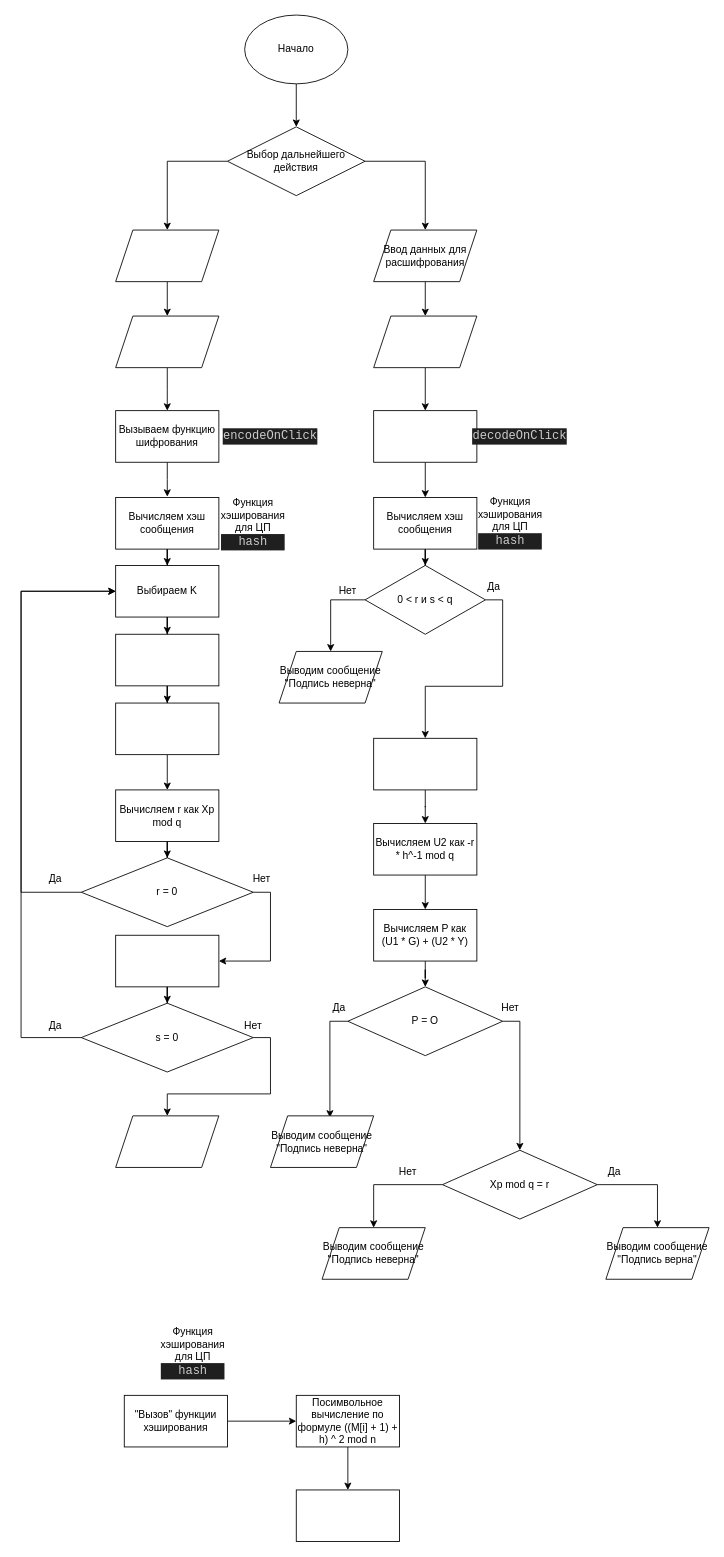
Some shapes in this 724 by 1557 pixel diagram are drawn without their labels. The box of each missing label's shape, as (x1, y1, x2, y2) in pixels:
Ввод данных для шифрования: (115, 229, 219, 282)
Возврат финального значения h: (295, 1489, 399, 1542)
Выводим результат (r,s), точку Y: (115, 1115, 219, 1167)
Вызываем функцию расшифрования: (373, 410, 477, 462)
Вычисляем s как K * h(хэш) + r * Xu mod q: (115, 934, 219, 987)
Вычисляем U1 как S * h^-1 mod q: (373, 737, 477, 790)
Вычисляем точку P как K*G: (115, 633, 219, 686)
Вычисляем точку Y как X*G: (115, 702, 219, 755)
Нажатие кнопки "Расшифровать": (373, 315, 477, 368)
Нажатие кнопки "Шифровать": (115, 315, 219, 368)
